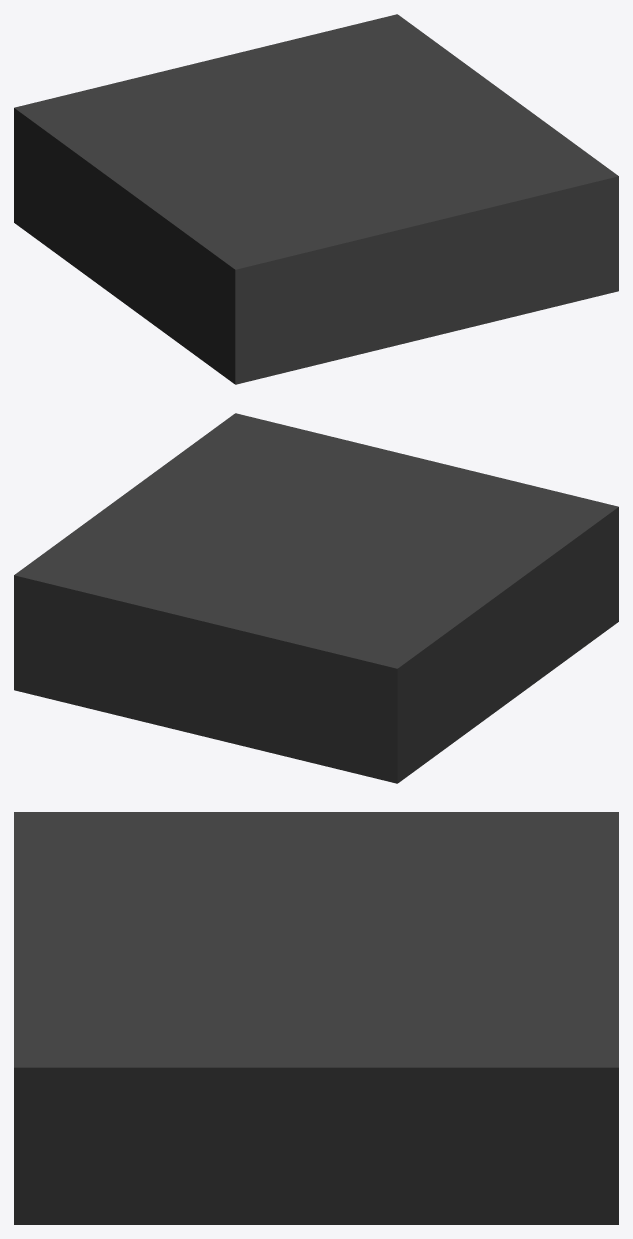
File: AI_Item_Bottlecap.fbx
3 renders of one model, top to bottom at view 1: azimuth 30°, elevation 25°; view 2: azimuth 150°, elevation 25°; view 3: azimuth 270°, elevation 25°, orthographic. The views are drawn at different scales.
Visible parts, largest first — view 1: AI_Item_Bottlecap; view 2: AI_Item_Bottlecap; view 3: AI_Item_Bottlecap.
Boxes of the visible parts, x1,y1,x2,y2 form: AI_Item_Bottlecap: (14,14,618,384); AI_Item_Bottlecap: (14,413,618,783); AI_Item_Bottlecap: (14,812,618,1224).
Size of the model in its own units: 0.1208 by 0.0346 by 0.1208.
